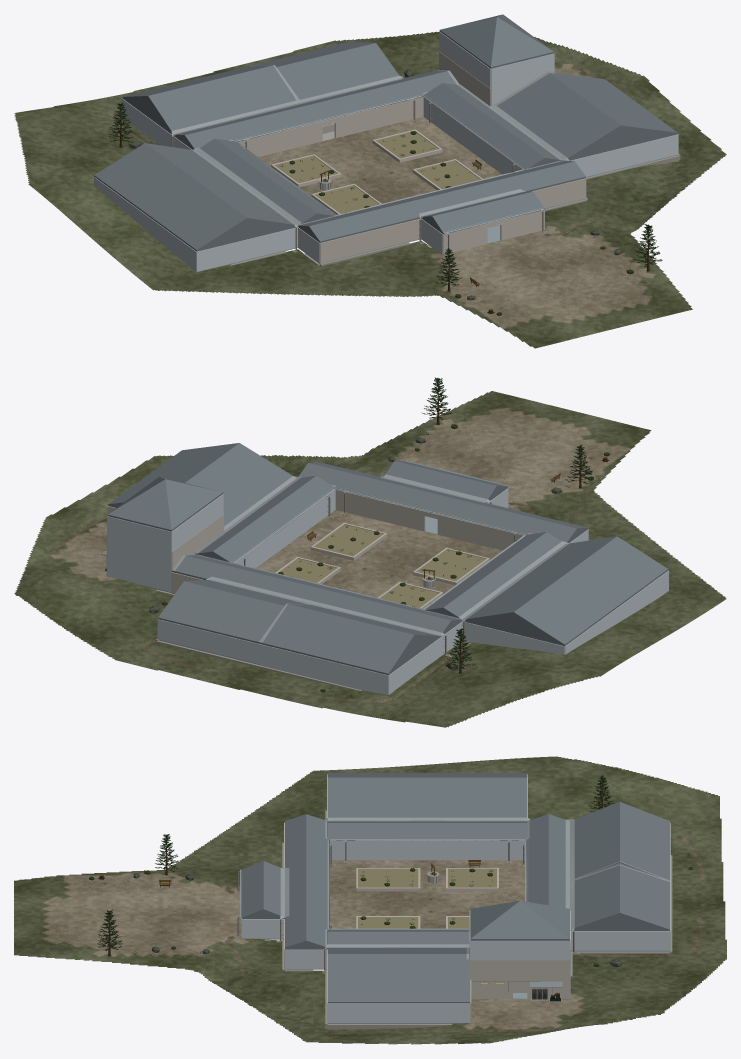
File: monastery-with-landscape.glb
3 views of the same model, one above another, from view 1: azimuth 30°, elevation 25°; view 2: azimuth 150°, elevation 25°; view 3: azimuth 270°, elevation 25° (orthographic). The views are drawn at different scales.
Parts seen in each view (by area): view 1: WLD-10 surveyed drainage ground finished, dormitory roof west, refectory roof west, archive roof south, south-cloister roof south, north-cloister roof south, vestry roof south, dormitory roof east, east-cloister roof west, refectory roof east, west-cloister roof west, Wall dorm S (+32 smaller); view 2: WLD-10 surveyed drainage ground finished, dormitory roof west, archive roof north, south-cloister roof north, vestry roof north, north-cloister roof north, refectory roof west, dormitory roof east, east-cloister roof west, Wall archive N, Wall tower-base N, west-cloister roof west (+30 smaller); view 3: WLD-10 surveyed drainage ground finished, dormitory roof east, refectory roof east, Wall west E, west-cloister roof east, archive roof north, Wall refectory E, archive roof south, south-cloister roof north, south-cloister roof south, vestry roof north, vestry roof south (+25 smaller).
Part boxes in pixels (x1,y1,x2,y2): WLD-10 surveyed drainage ground finished: (14,31,726,348); dormitory roof west: (94,143,247,251); refectory roof west: (497,73,620,158); archive roof south: (148,65,296,131); south-cloister roof south: (309,161,585,242); north-cloister roof south: (184,71,456,149); vestry roof south: (276,43,398,99); dormitory roof east: (145,143,294,226); east-cloister roof west: (424,83,544,169); refectory roof east: (550,73,677,133); west-cloister roof west: (200,138,316,223); Wall dorm S: (196,227,297,271); WLD-10 surveyed drainage ground finished: (14,391,726,727); dormitory roof west: (513,536,668,645); archive roof north: (260,604,414,675); south-cloister roof north: (298,463,576,542); vestry roof north: (158,581,284,643); north-cloister roof north: (171,555,451,636); refectory roof west: (185,443,292,526); dormitory roof east: (466,536,616,620); east-cloister roof west: (213,476,335,563); Wall archive N: (260,644,388,694); Wall tower-base N: (107,536,171,591); west-cloister roof west: (443,532,561,617); WLD-10 surveyed drainage ground finished: (14,756,726,1044); dormitory roof east: (327,777,527,817); refectory roof east: (327,954,470,1003); Wall west E: (330,840,524,860); west-cloister roof east: (327,823,527,839); archive roof north: (620,802,669,880); Wall refectory E: (327,1003,470,1022); archive roof south: (574,802,619,878); south-cloister roof north: (306,814,327,948); south-cloister roof south: (285,814,306,948); vestry roof north: (620,865,669,930); vestry roof south: (574,865,619,929).
Size of the model in its own units: 92 by 16 by 100.
202 materials, 156 textured.
